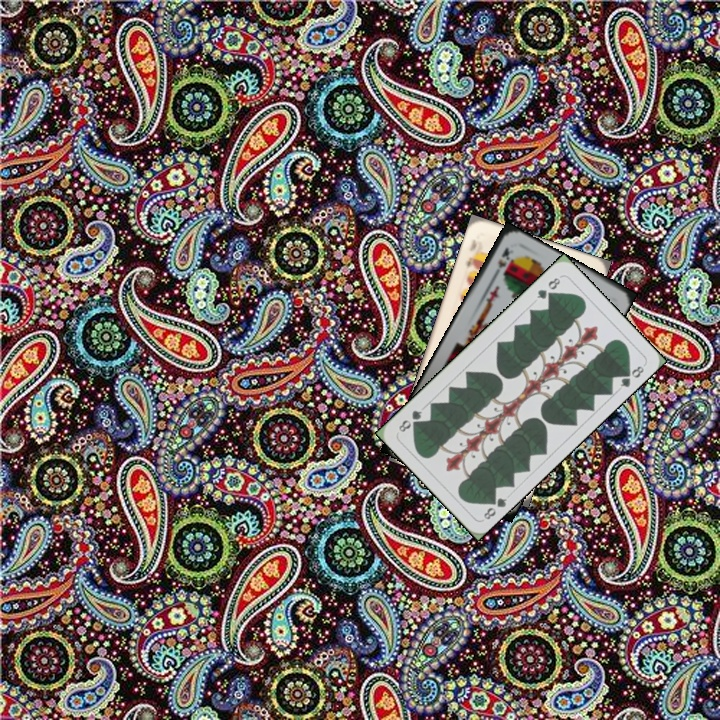E10: (462, 235, 479, 270)
G8: (479, 491, 510, 522), (532, 273, 563, 302)
SK: (489, 243, 513, 279)
